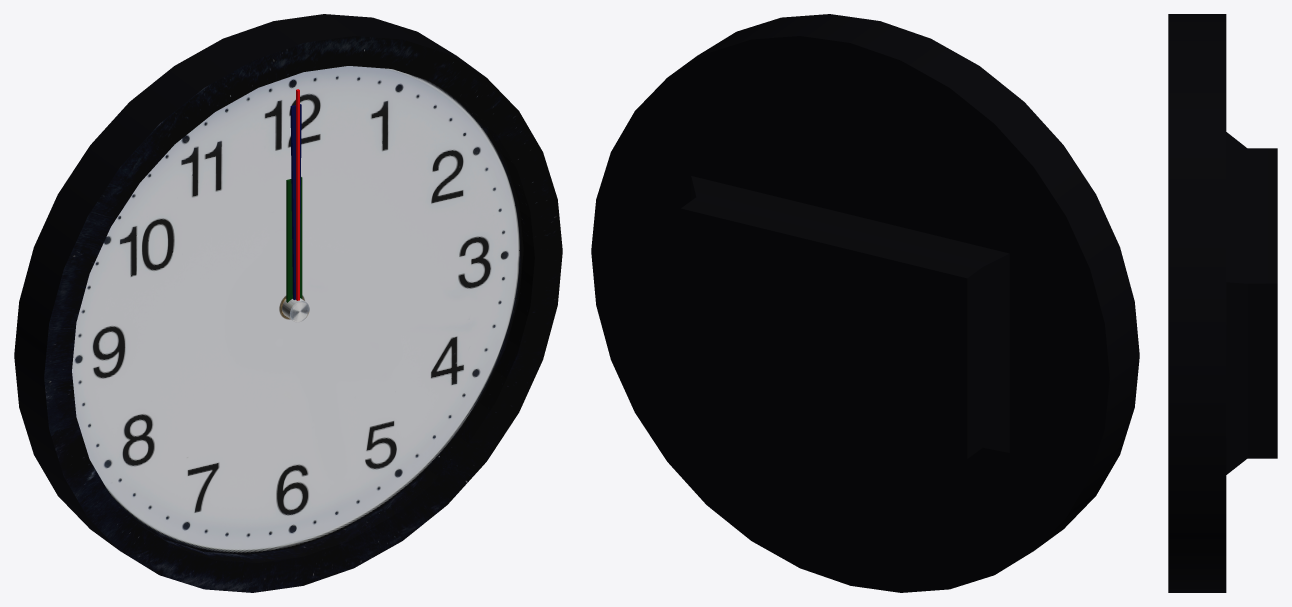
The model's file is Clock.fbx.
The picture shows the model from 3 angles, left to right: view 1: azimuth 30°, elevation 25°; view 2: azimuth 150°, elevation 25°; view 3: azimuth 270°, elevation 25°; orthographic projection. The views are drawn at different scales.
Parts seen in each view (by area): view 1: Clock, ArmHour, ArmMinute, ArmSecond; view 2: Clock; view 3: Clock.
Boxes of the visible parts, <box> form: Clock: <box>14,14,562,592</box>; ArmHour: <box>286,177,302,302</box>; ArmMinute: <box>290,104,301,299</box>; ArmSecond: <box>296,89,299,300</box>; Clock: <box>591,14,1139,592</box>; Clock: <box>1168,14,1277,592</box>.
Size of the model in its own units: 200 by 200 by 37.62.
4 materials, 1 textured.
